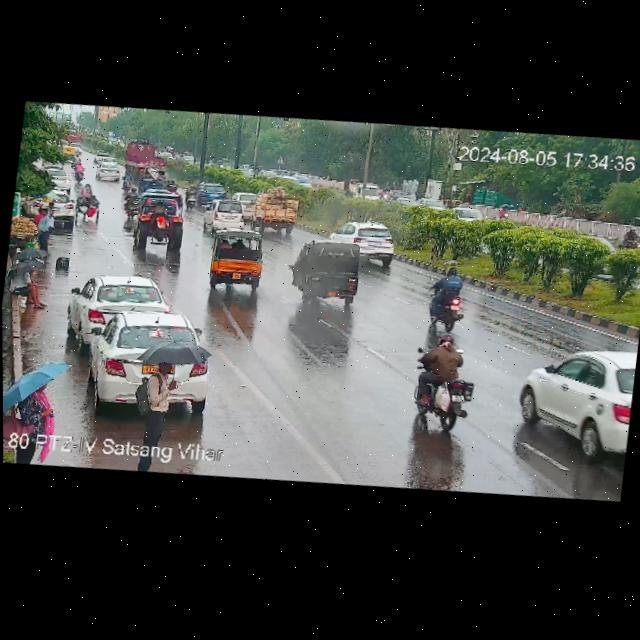car: (63, 300, 220, 427), (514, 343, 636, 465), (70, 268, 171, 325), (289, 238, 364, 309), (205, 225, 268, 289), (332, 218, 400, 268), (248, 189, 306, 232), (200, 198, 253, 234), (72, 179, 107, 224), (264, 164, 321, 190), (36, 166, 75, 195), (345, 177, 383, 203), (447, 205, 485, 226), (192, 179, 228, 201), (415, 193, 450, 215), (93, 159, 125, 183), (386, 193, 419, 212)
motorcycle: (409, 329, 479, 435), (412, 264, 475, 338), (120, 185, 145, 219)
person: (134, 351, 185, 439), (14, 374, 67, 448), (6, 249, 51, 310), (30, 205, 57, 251)
truck: (130, 191, 186, 255), (121, 137, 171, 185)
